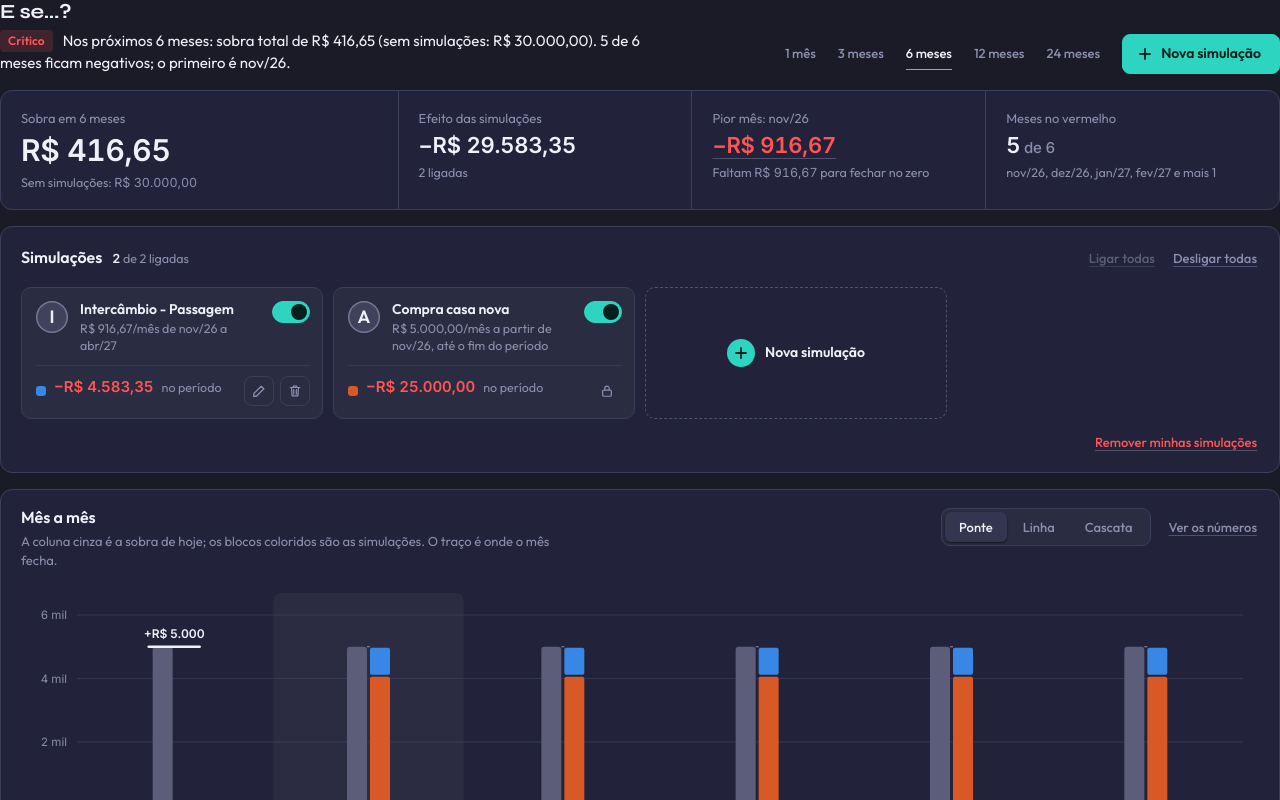
Test case: WhatIfView: editar e excluir pelo cartão › Excluir pede confirmação com o nome; Cancelar não muda nada
The image size is (1280, 800).
Click the button named "Excluir Intercâmbio - Passagem": (295, 391) [280,376,310,406]
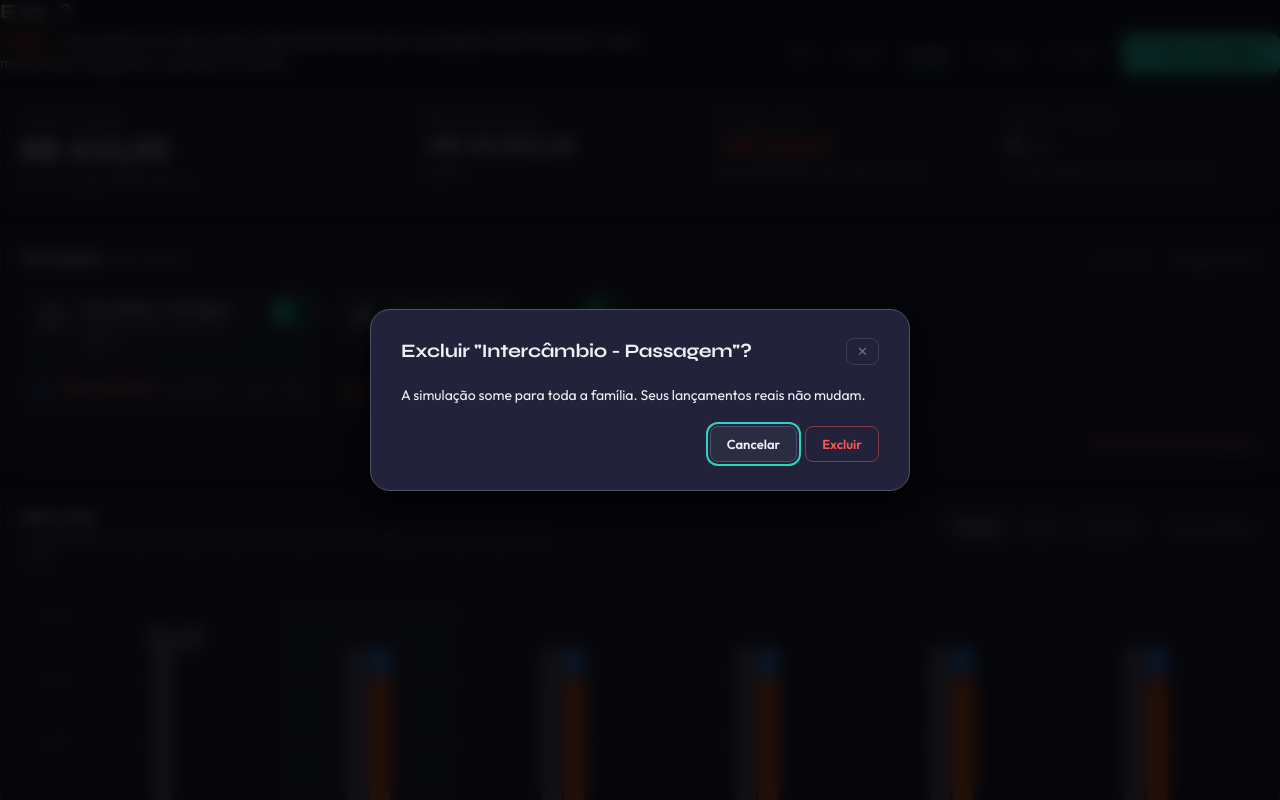
Click the button "Cancelar": (753, 444) [710,426,797,462]
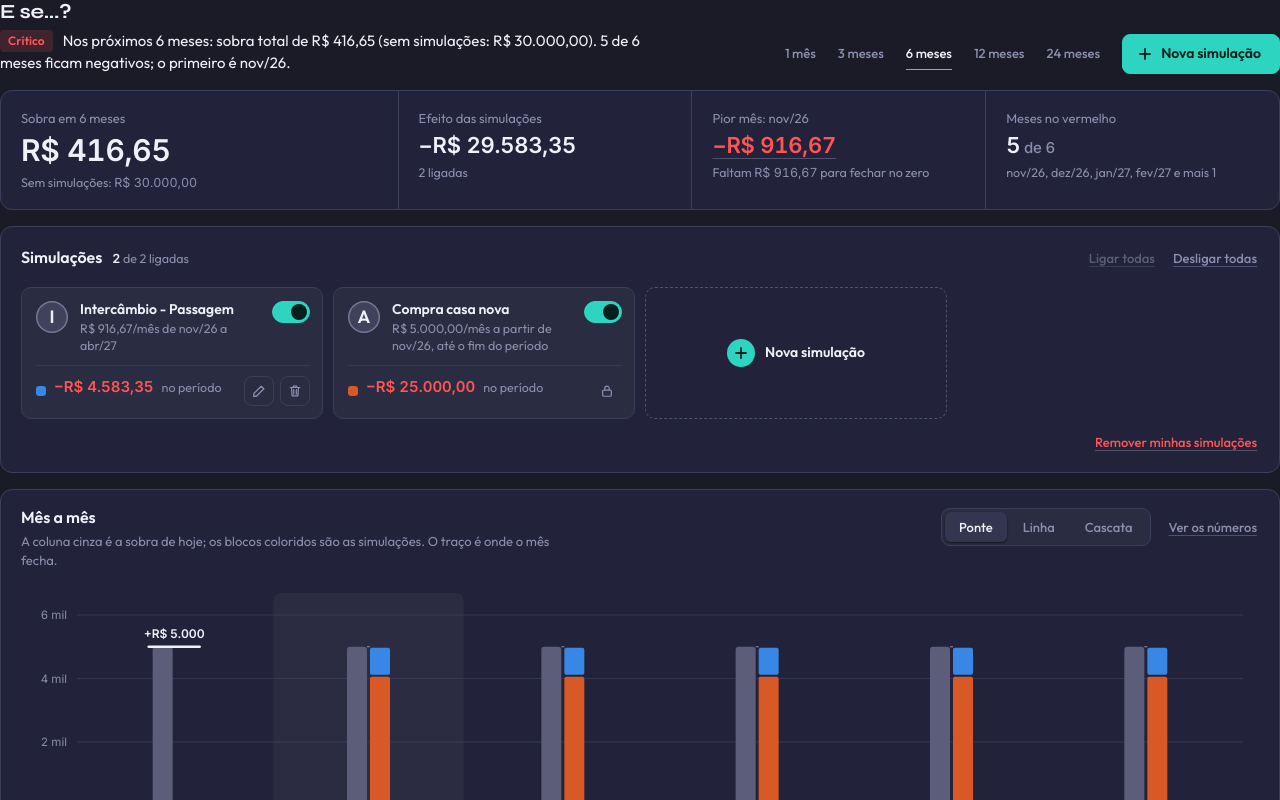
Check: the button "Intercâmbio - Passagem" is shown, box [80,300,260,318]
Check: the dialog is gone
